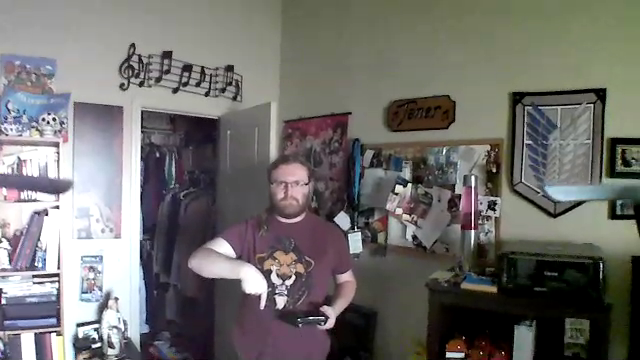down: (236, 257, 277, 317)
